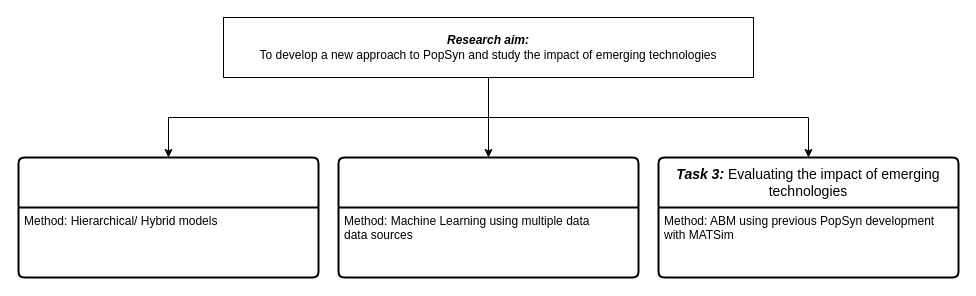
Image size: 976x296. Some labels were removed from this diagram. The box of each missing label's shape, as (x1, y1, x2, y2) in pixels:
Task 1: Generate the population take into account both persons and households: (17, 156, 319, 278)
Task 2: Improve the population synthesizer via activities' generation: (337, 156, 639, 278)
